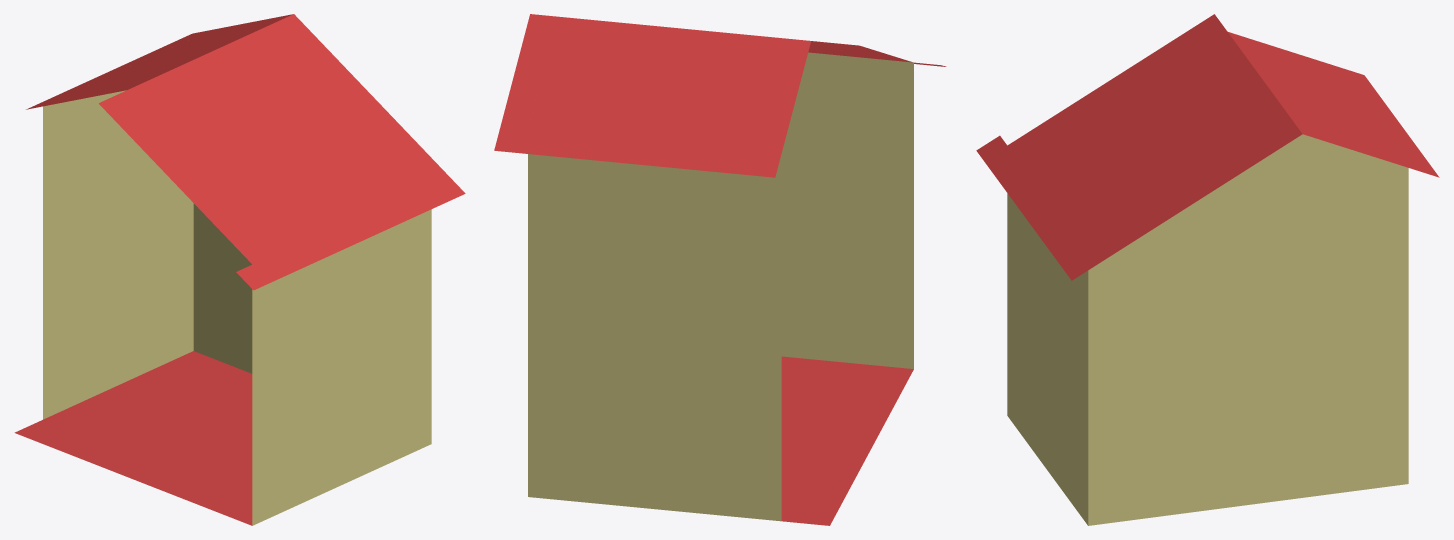
3 views of the same model, side by side, from view 1: azimuth 30°, elevation 25°; view 2: azimuth 150°, elevation 25°; view 3: azimuth 270°, elevation 25° (orthographic). The views are drawn at different scales.
Bounding box in the file's own units: 11.79 × 13.97 × 12.46.
